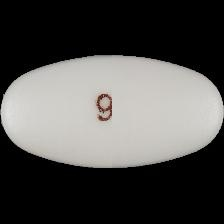53808-1058: (0, 0, 224, 224)
